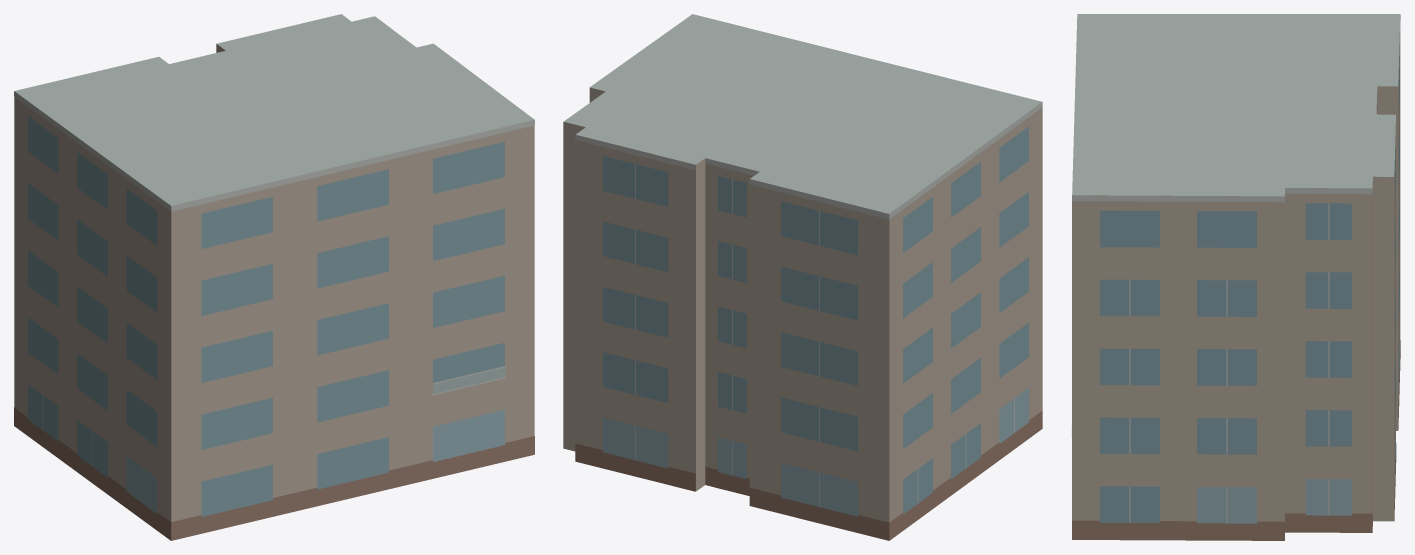
File: survey-upis-32874559.glb
3 renders of one model, left to right at view 1: azimuth 30°, elevation 25°; view 2: azimuth 150°, elevation 25°; view 3: azimuth 270°, elevation 25°, orthographic. The views are drawn at different scales.
Parts seen in each view (by area): view 1: survey-upis-32874559.tmp; view 2: survey-upis-32874559.tmp; view 3: survey-upis-32874559.tmp.
Part boxes in pixels (bbox=[...]): survey-upis-32874559.tmp: bbox=[14, 14, 534, 540]; survey-upis-32874559.tmp: bbox=[563, 14, 1042, 540]; survey-upis-32874559.tmp: bbox=[1071, 14, 1400, 540].
Bounding box in the file's own units: 16.3 × 14.35 × 12.42.
